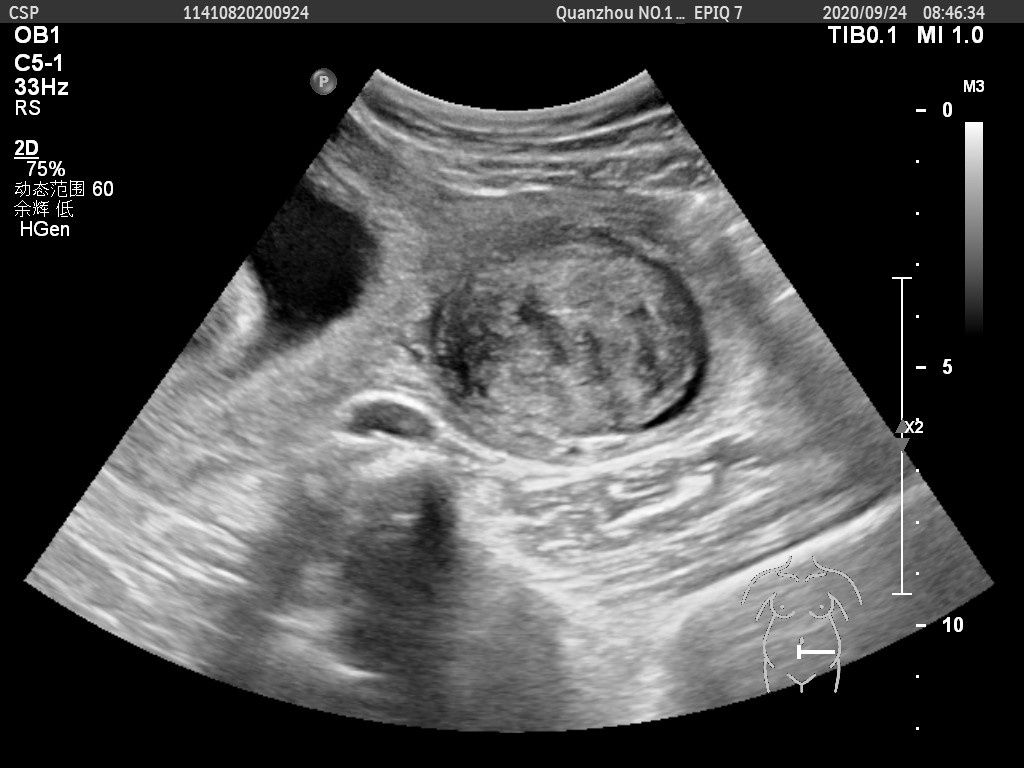肌瘤: (433, 233, 708, 440)
